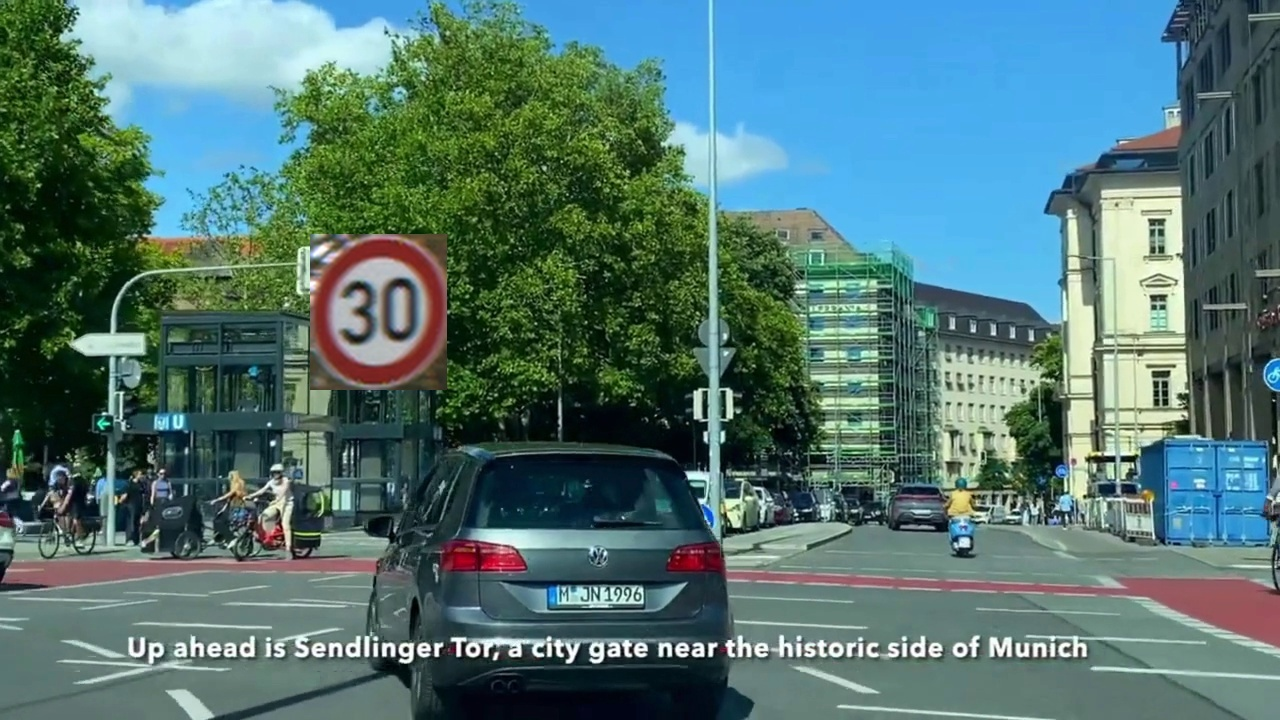Speed 30: (310, 234, 447, 390)
